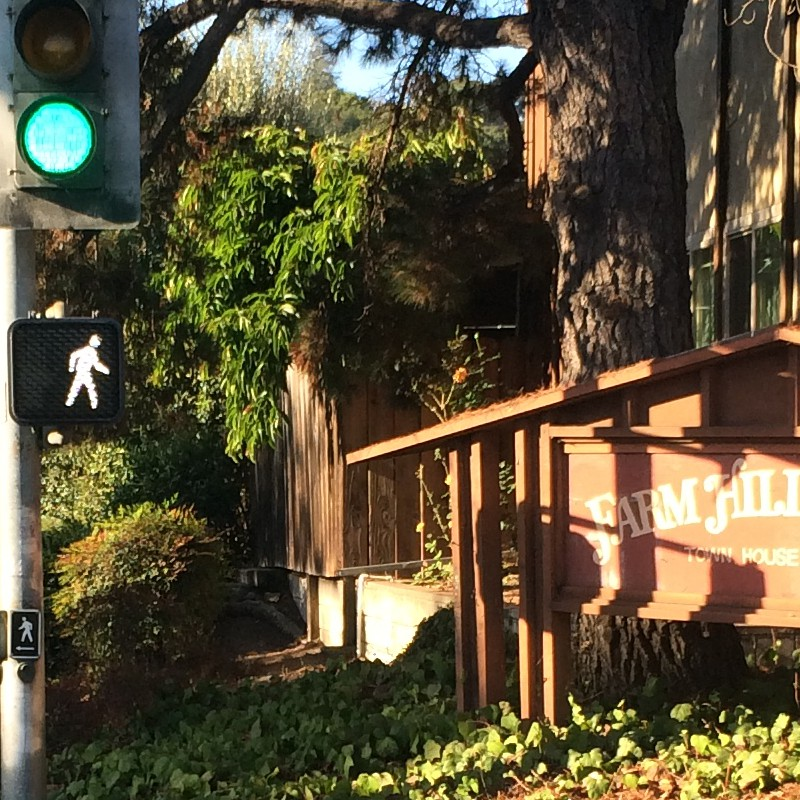go: (5, 318, 129, 429)
